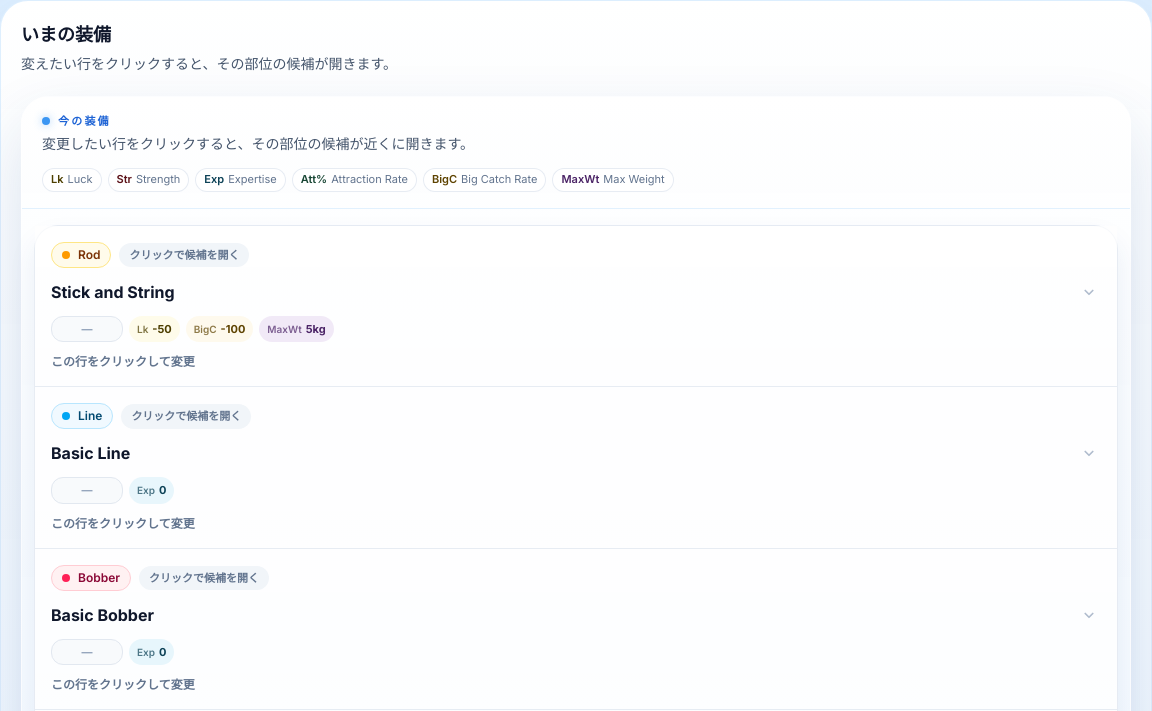
Test case: Step 1 loadout UI quality › keeps the current selected equipment visible above the candidate list while comparing
Click the button named "Rod を選び直す" at (576, 306), box [35,226,1117,386]
(page scrolled)
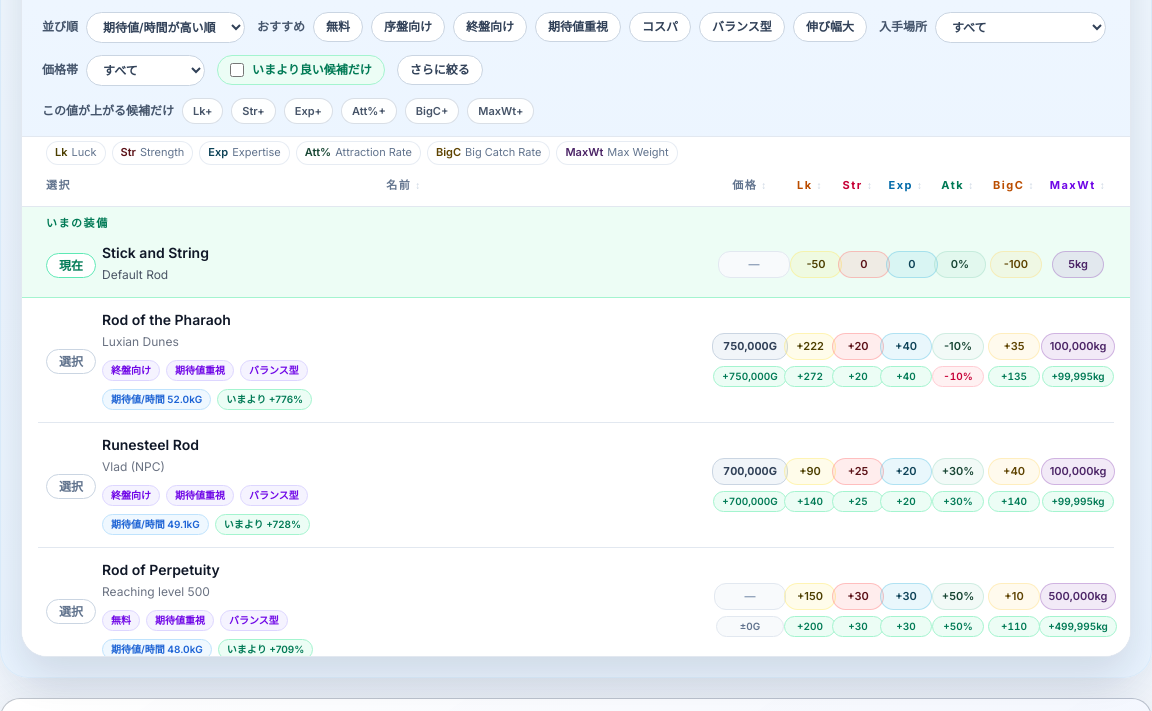
Result: the element with test id "picker-current-item-row" shows "いまの装備" at [46,216,109,230]
Result: the element with test id "picker-current-item-row" shows "Stick and String" at [102,244,209,261]
Result: the button with test id "picker-option-row" is shown at [38,298,1114,423]
